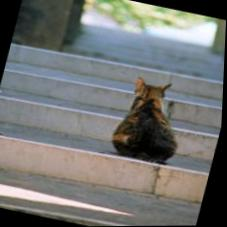Bench: (0, 64, 225, 202)
